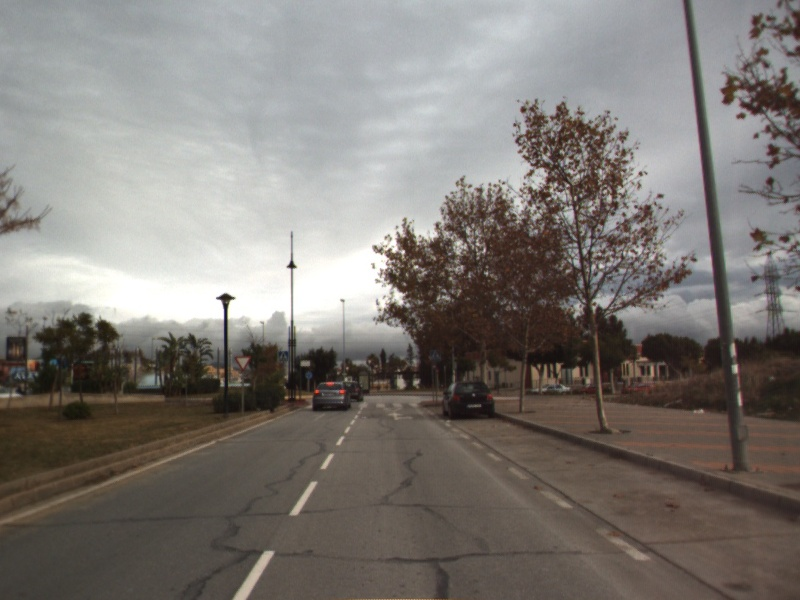STRAIGHT_RIGHT: (385, 410, 416, 422)
